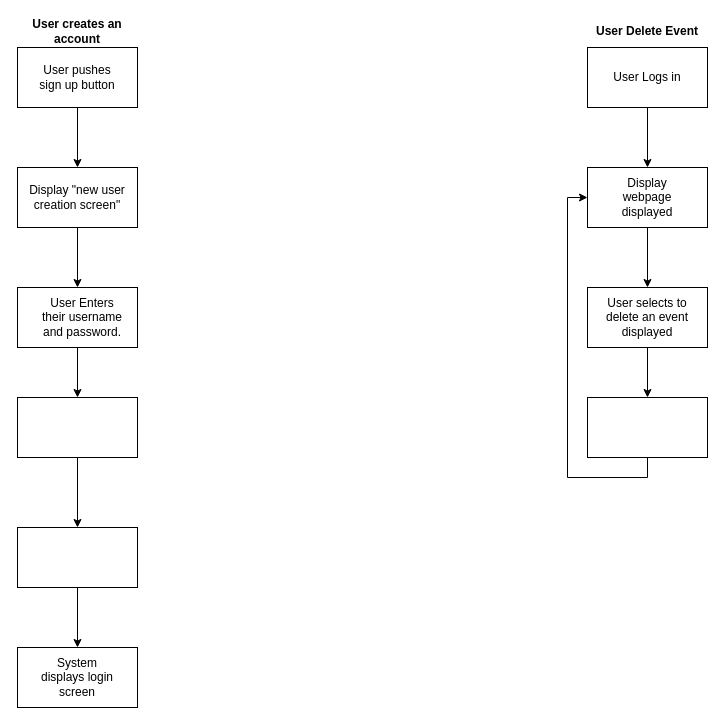
Some shapes in this 725 by 725 pixel diagram are drawn without their labels. The centre of each missing label's shape, as x and y in pixels:
System creates user and saves to the users file: point 77,557
System Deletes the event and saves the event data: point 647,427
User clicks submit button: point 77,427
